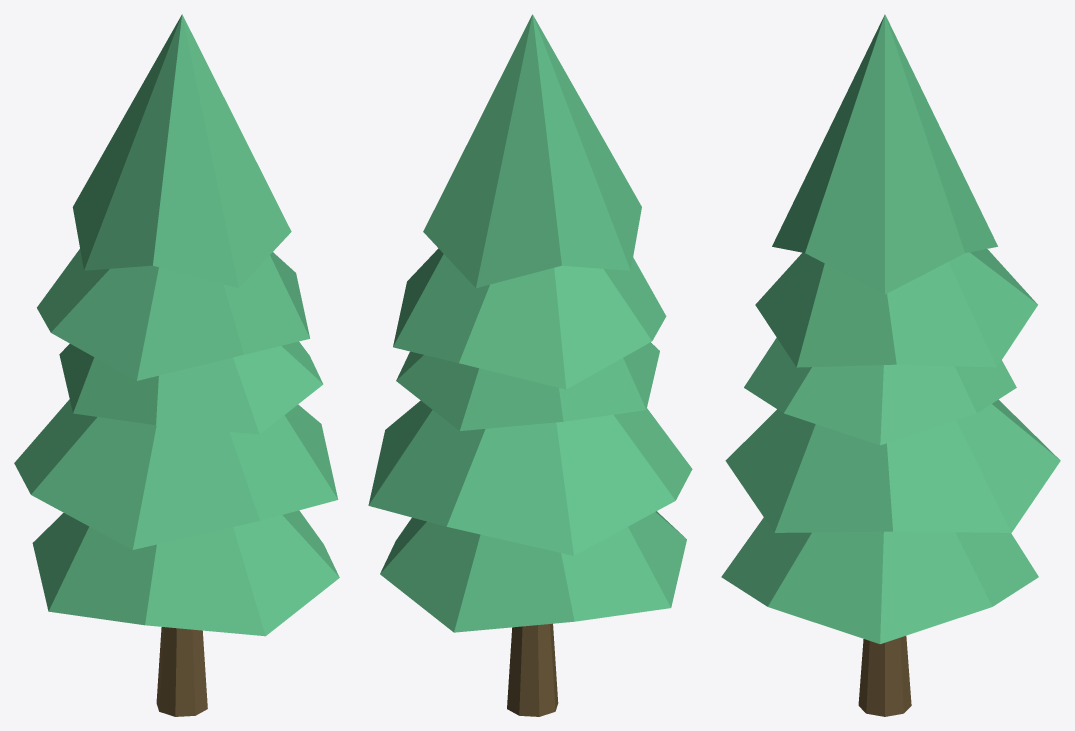
Rendered from tree.fbx.
3 views of the same model, side by side, from view 1: azimuth 30°, elevation 25°; view 2: azimuth 150°, elevation 25°; view 3: azimuth 270°, elevation 25° (orthographic).
Parts seen in each view (by area): view 1: Cone; view 2: Cone; view 3: Cone.
Boxes of the visible parts, x1,y1,x2,y2 form: Cone: (14, 14, 339, 716); Cone: (368, 14, 692, 716); Cone: (721, 14, 1060, 716).
Bounding box in the file's own units: 296 × 674 × 300.
